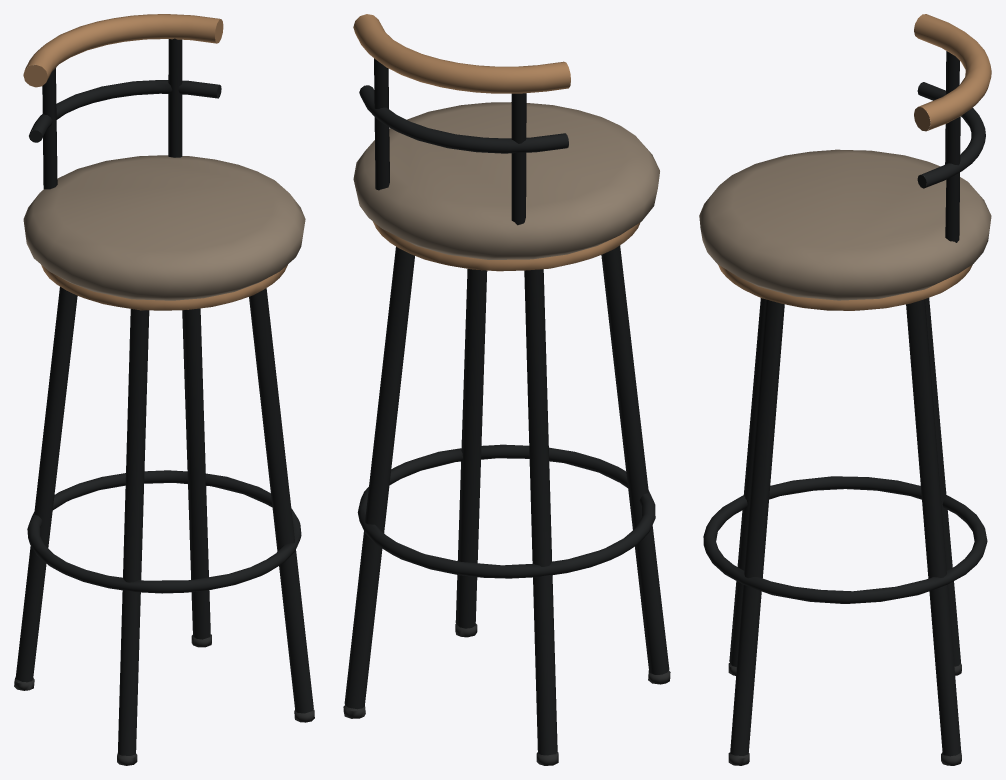
The model's file is stool-lightweight-4aa9133cc8.glb.
3 views of the same model, side by side, from view 1: azimuth 30°, elevation 25°; view 2: azimuth 150°, elevation 25°; view 3: azimuth 270°, elevation 25° (orthographic). The views are drawn at different scales.
Parts seen in each view (by area): view 1: stool; view 2: stool; view 3: stool.
Part boxes in pixels (x1,y1,x2,y2): stool: (14, 14, 314, 765); stool: (343, 14, 670, 765); stool: (699, 14, 991, 765).
Size of the model in its own units: 0.3598 by 0.891 by 0.3601.
